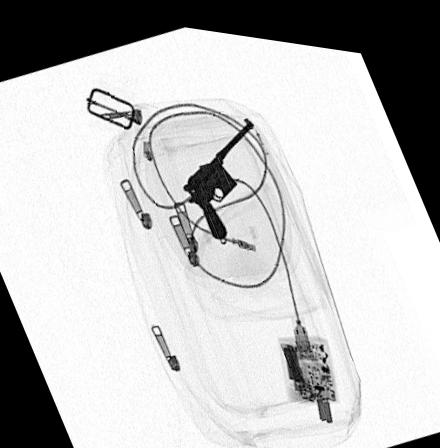Gun: (180, 107, 260, 234)
